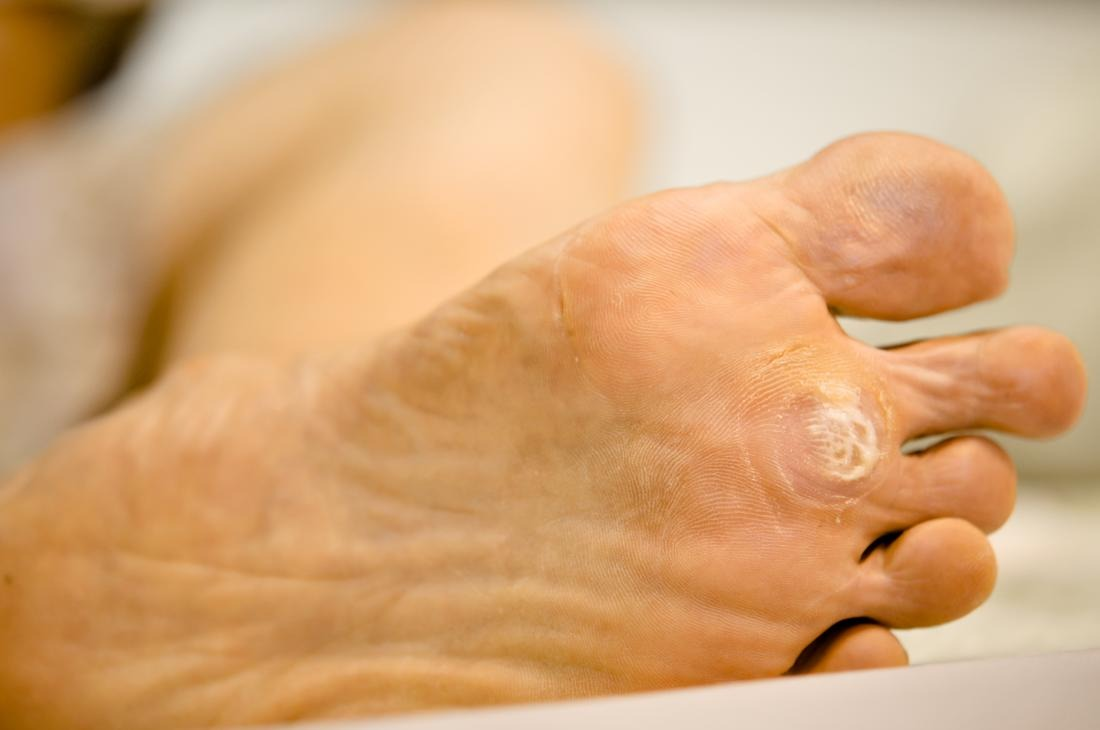Warts: (764, 357, 899, 527)
